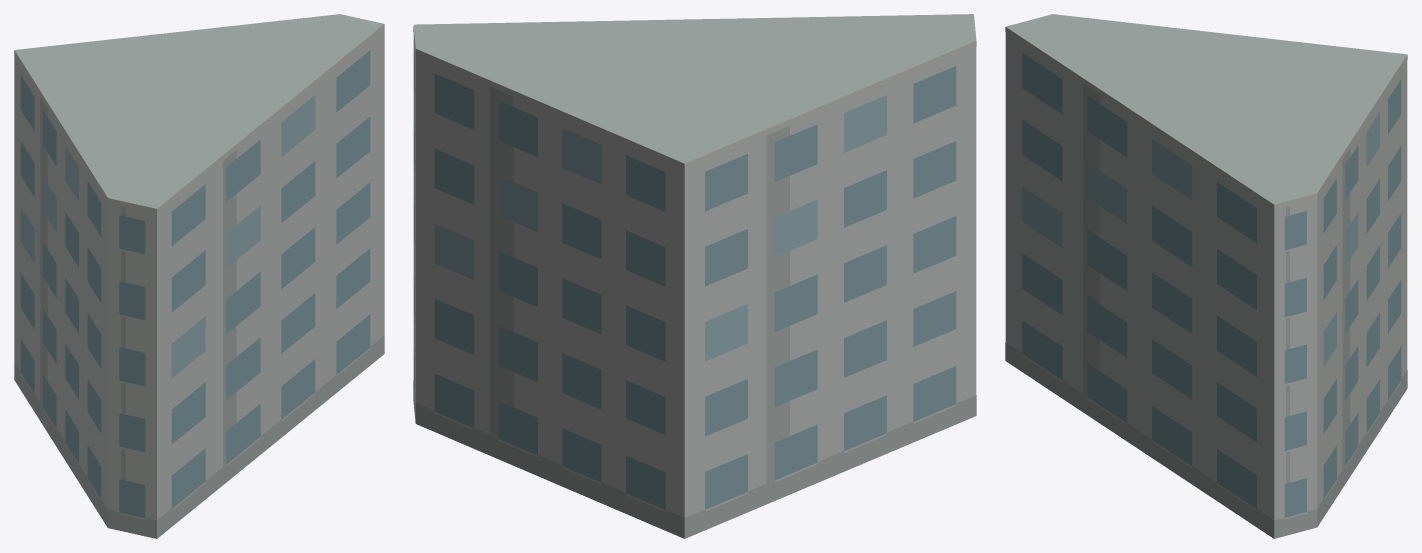
The model's file is survey-upis-32937839.glb.
3 views of the same model, side by side, from view 1: azimuth 30°, elevation 25°; view 2: azimuth 150°, elevation 25°; view 3: azimuth 270°, elevation 25° (orthographic). The views are drawn at different scales.
Visible parts, largest first — view 1: survey-upis-32937839.tmp; view 2: survey-upis-32937839.tmp; view 3: survey-upis-32937839.tmp.
Part boxes in pixels (x1=…): survey-upis-32937839.tmp: x1=14, y1=14, x2=384, y2=538; survey-upis-32937839.tmp: x1=413, y1=14, x2=976, y2=538; survey-upis-32937839.tmp: x1=1005, y1=14, x2=1407, y2=538.
Bounding box in the file's own units: 18 × 14.7 × 16.04.
